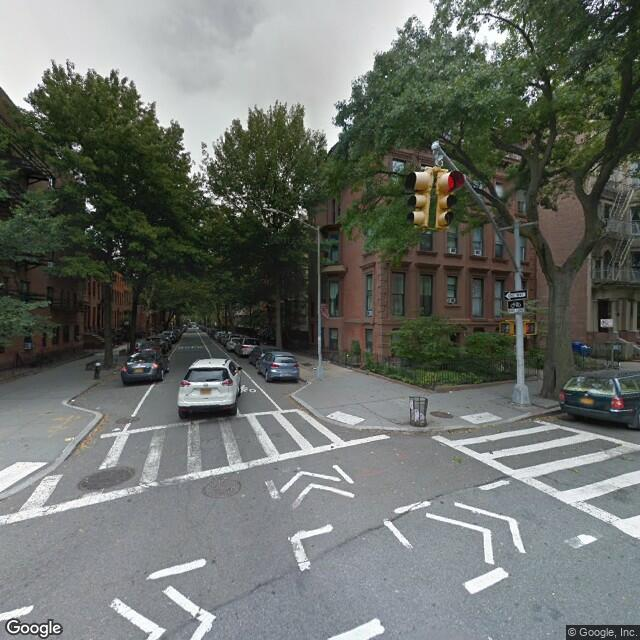litter: (68, 396, 82, 404), (108, 425, 122, 432), (447, 388, 457, 393)
